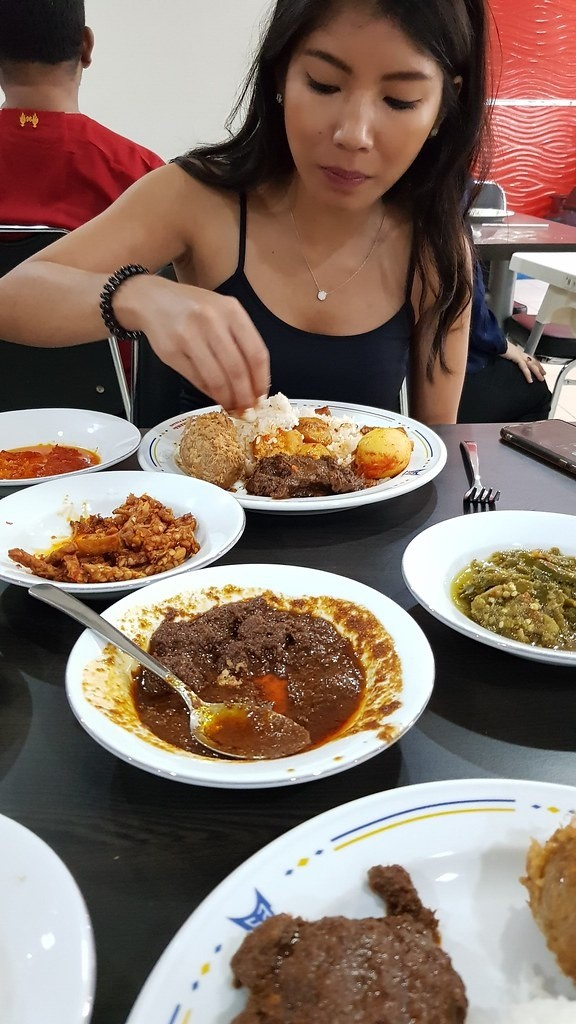face_no_mask: (264, 3, 464, 219)
